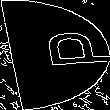P_W: (6, 34, 104, 76)
